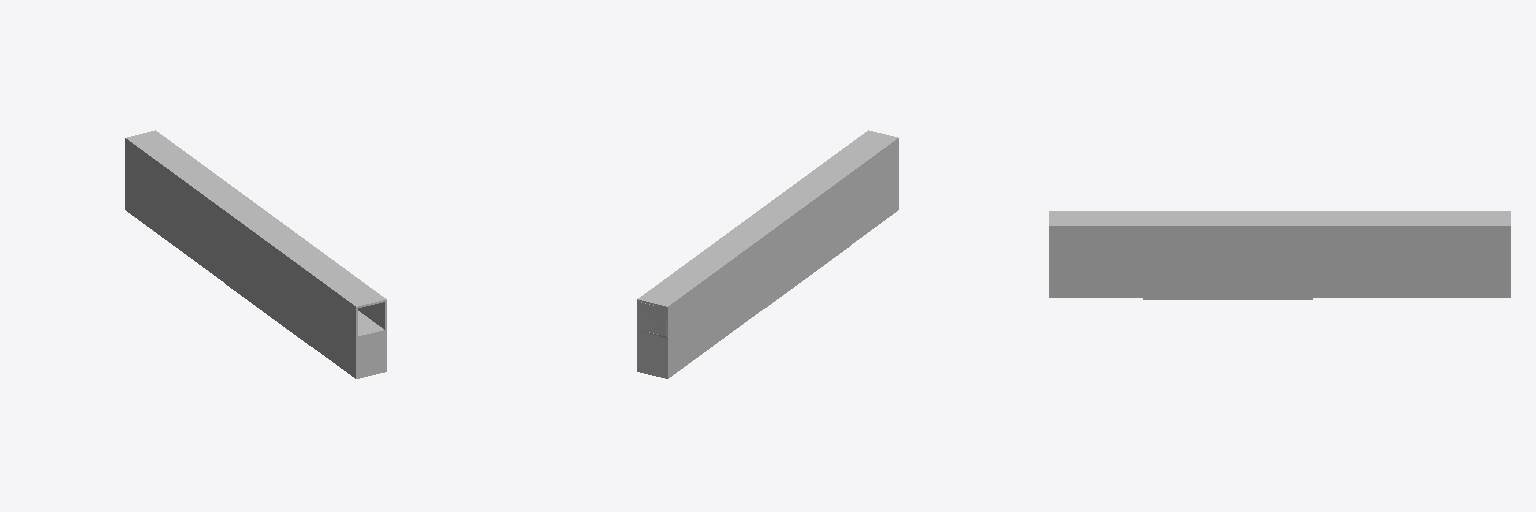
Rendered from Capt Win'ar Tutorial Level 2.obj.
3 renders of one model, left to right at view 1: azimuth 30°, elevation 25°; view 2: azimuth 150°, elevation 25°; view 3: azimuth 270°, elevation 25°, orthographic.
Parts seen in each view (by area): view 1: Cube; view 2: Cube; view 3: Cube.
Boxes of the visible parts, <box> form: Cube: <box>125,130,386,378</box>; Cube: <box>637,130,898,378</box>; Cube: <box>1049,211,1510,299</box>.
Size of the model in its own units: 2 by 4.67 by 26.19.